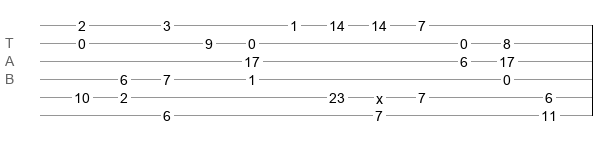0: (78, 36, 86, 46), (248, 36, 256, 46), (460, 36, 468, 46), (503, 72, 511, 82)
1: (248, 72, 256, 82), (290, 18, 298, 28)
10: (74, 90, 90, 100)
11: (541, 108, 557, 118)
14: (329, 18, 345, 28), (371, 18, 387, 28)
17: (244, 54, 260, 64), (499, 54, 515, 64)
2: (78, 18, 86, 28), (120, 90, 128, 100)
23: (329, 90, 345, 100)
3: (163, 18, 171, 28)
6: (120, 72, 128, 82), (163, 108, 171, 118), (460, 54, 468, 64), (545, 90, 553, 100)
7: (163, 72, 171, 82), (375, 108, 383, 118), (418, 18, 426, 28), (418, 90, 426, 100)
8: (503, 36, 511, 46)
9: (205, 36, 213, 46)
x: (376, 91, 383, 99)
